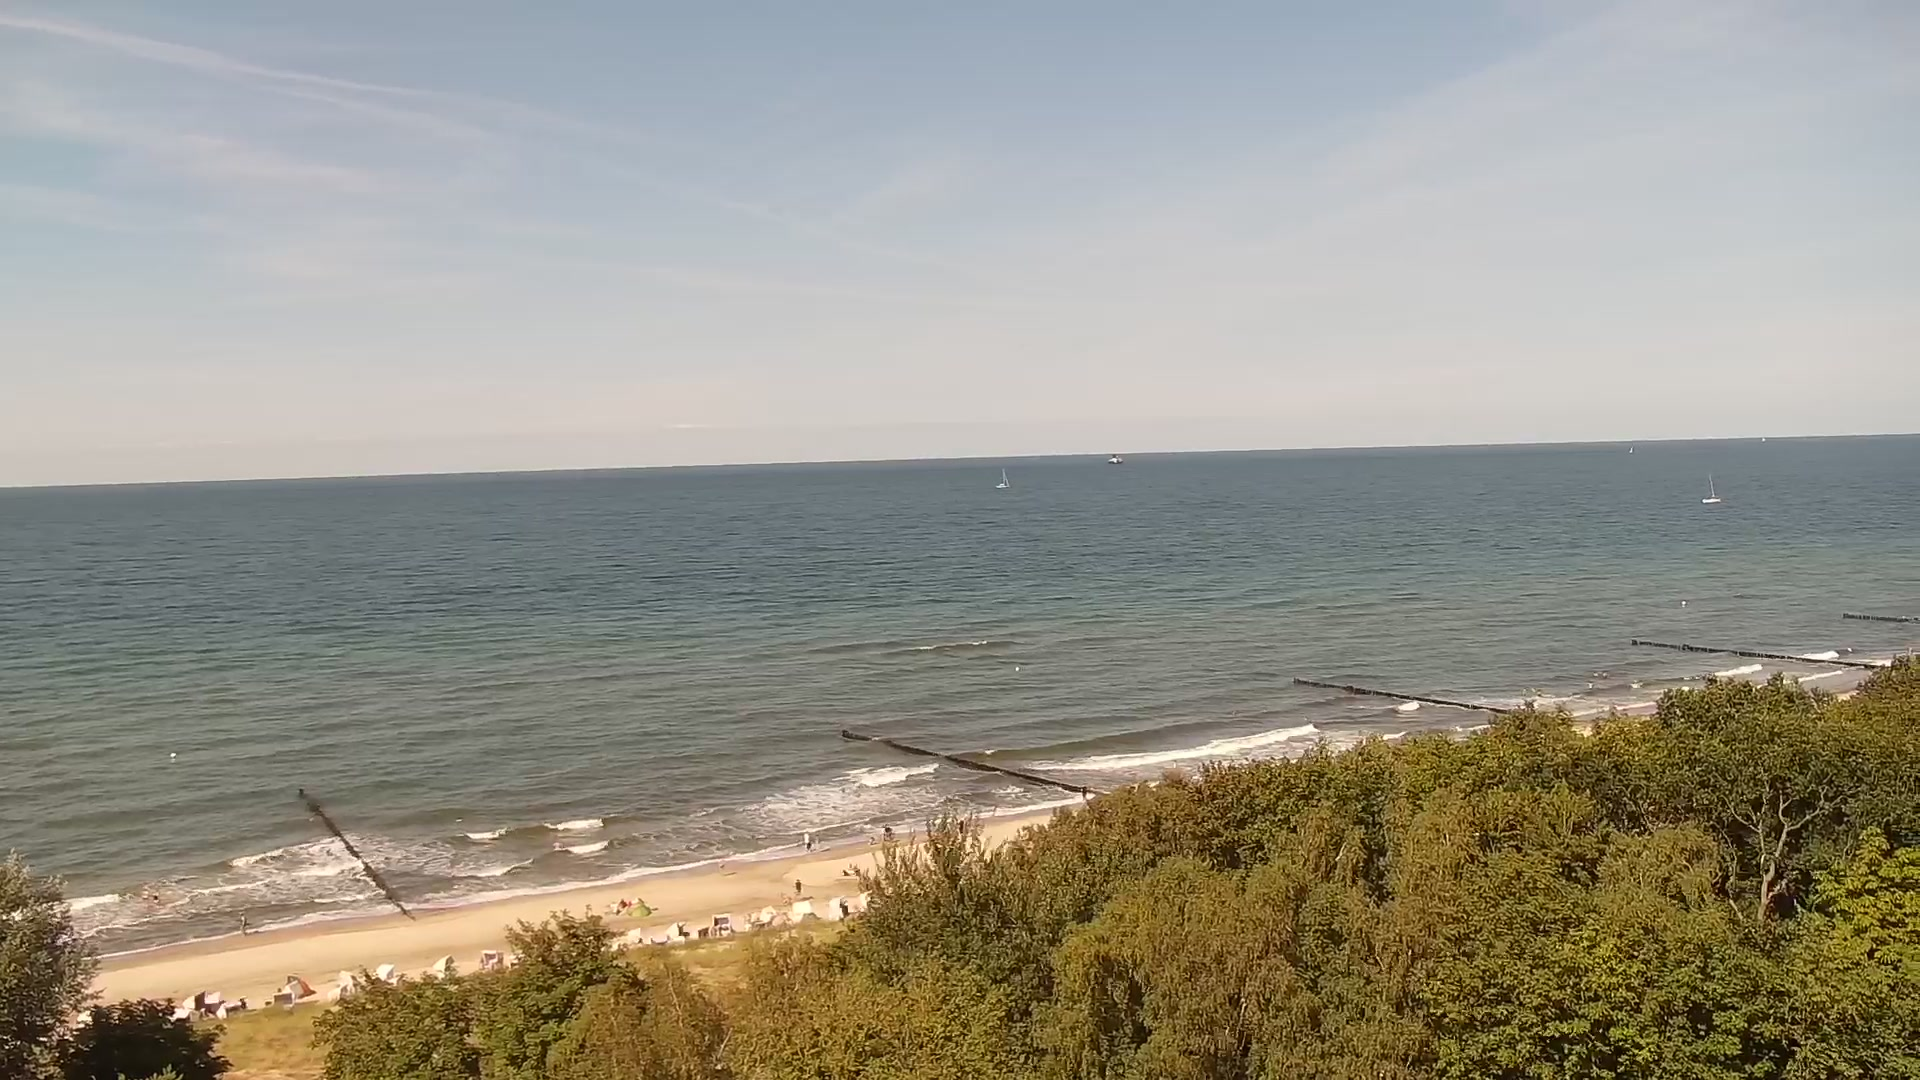human: (239, 911, 248, 934), (803, 830, 812, 851), (882, 823, 893, 840), (794, 878, 802, 895), (956, 815, 963, 835), (813, 833, 820, 851), (868, 835, 875, 844)
sea: (1700, 472, 1721, 502), (994, 467, 1010, 488), (1106, 453, 1122, 464), (1628, 445, 1634, 453), (1761, 436, 1766, 441)
